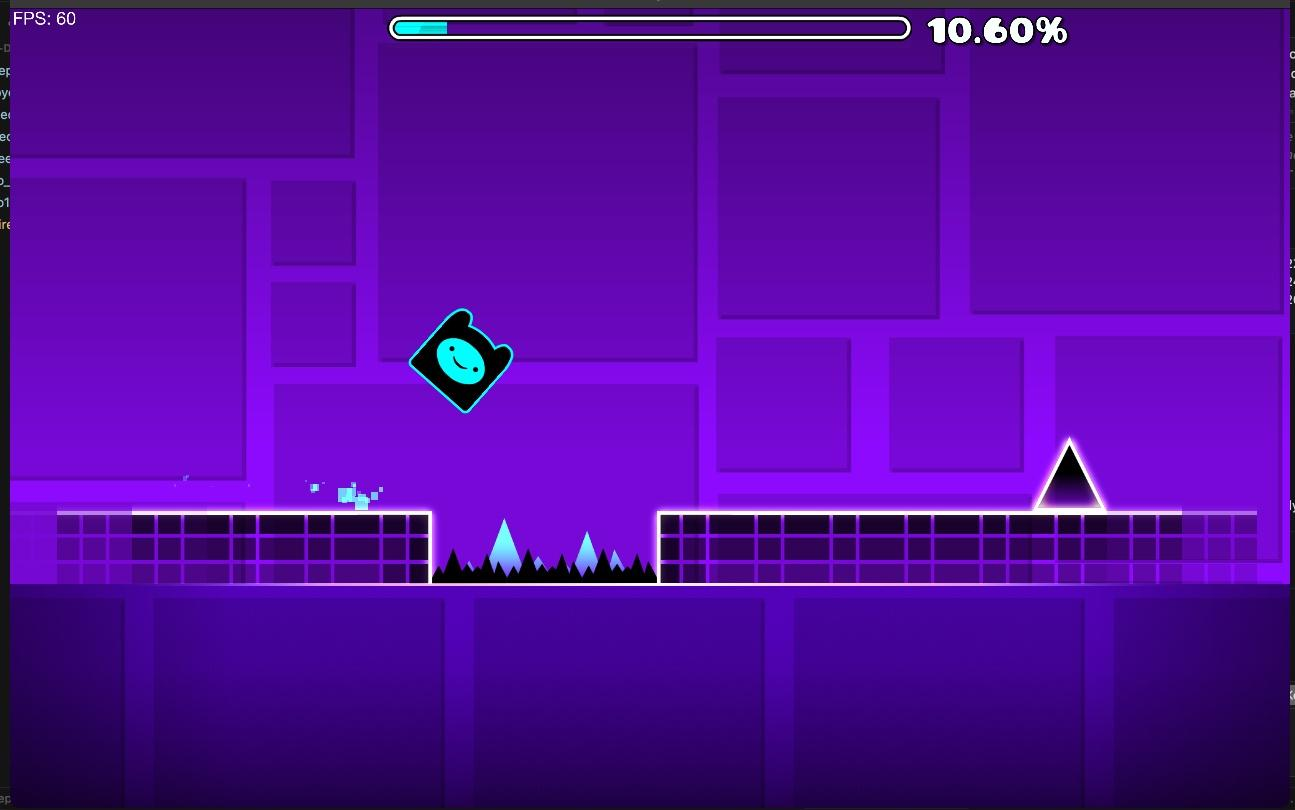block: (661, 514, 1257, 584), (60, 514, 431, 579)
player: (409, 308, 512, 413)
spike: (1037, 442, 1102, 507)
